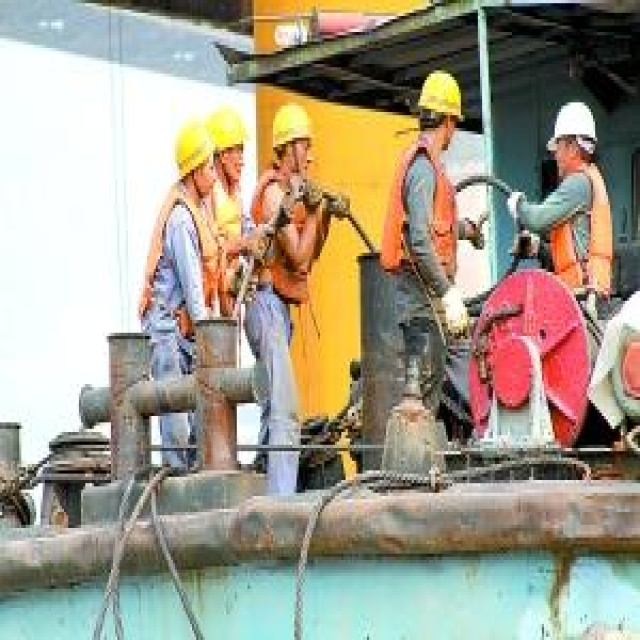Helmet: (414, 59, 471, 159), (543, 89, 602, 181), (168, 113, 223, 206), (265, 94, 318, 183), (207, 101, 256, 193)
Reflective vest: (133, 187, 231, 336), (375, 137, 465, 294), (538, 160, 619, 305), (248, 166, 322, 314)
